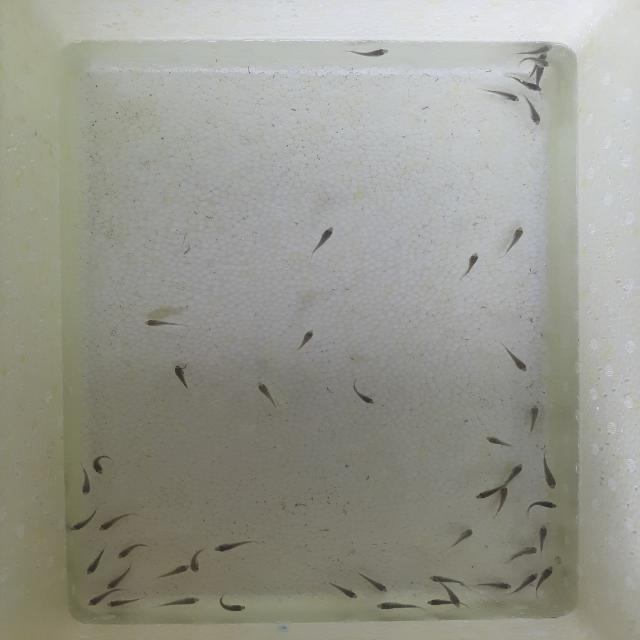fingerling: (354, 384, 381, 410), (483, 433, 517, 453), (514, 572, 540, 597), (507, 352, 533, 376), (70, 513, 101, 533), (98, 515, 132, 533), (315, 220, 337, 246), (215, 540, 258, 553), (375, 599, 413, 613), (459, 249, 482, 272), (354, 45, 394, 58), (172, 594, 204, 610), (88, 550, 109, 574), (503, 224, 525, 246), (448, 531, 471, 552), (142, 315, 172, 331), (446, 592, 474, 608), (506, 460, 528, 480), (543, 466, 559, 493), (496, 483, 512, 510), (368, 576, 392, 594), (155, 566, 190, 578), (115, 544, 141, 560), (103, 572, 129, 588), (253, 377, 271, 399), (172, 362, 190, 384), (216, 601, 246, 614), (492, 89, 522, 102), (526, 403, 545, 423), (332, 587, 359, 601), (514, 82, 546, 93), (190, 551, 204, 576), (424, 574, 458, 584), (528, 99, 542, 122), (536, 500, 556, 515), (92, 455, 106, 476), (483, 581, 512, 591), (107, 598, 136, 608), (536, 524, 552, 542), (517, 546, 540, 558), (302, 326, 316, 345), (543, 562, 555, 584), (80, 473, 91, 496), (471, 488, 493, 499), (87, 594, 107, 606), (533, 44, 556, 52), (527, 60, 555, 66), (427, 597, 443, 606)
